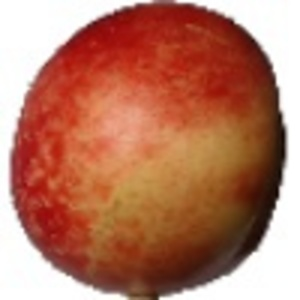nectarina: (1, 1, 288, 300)
